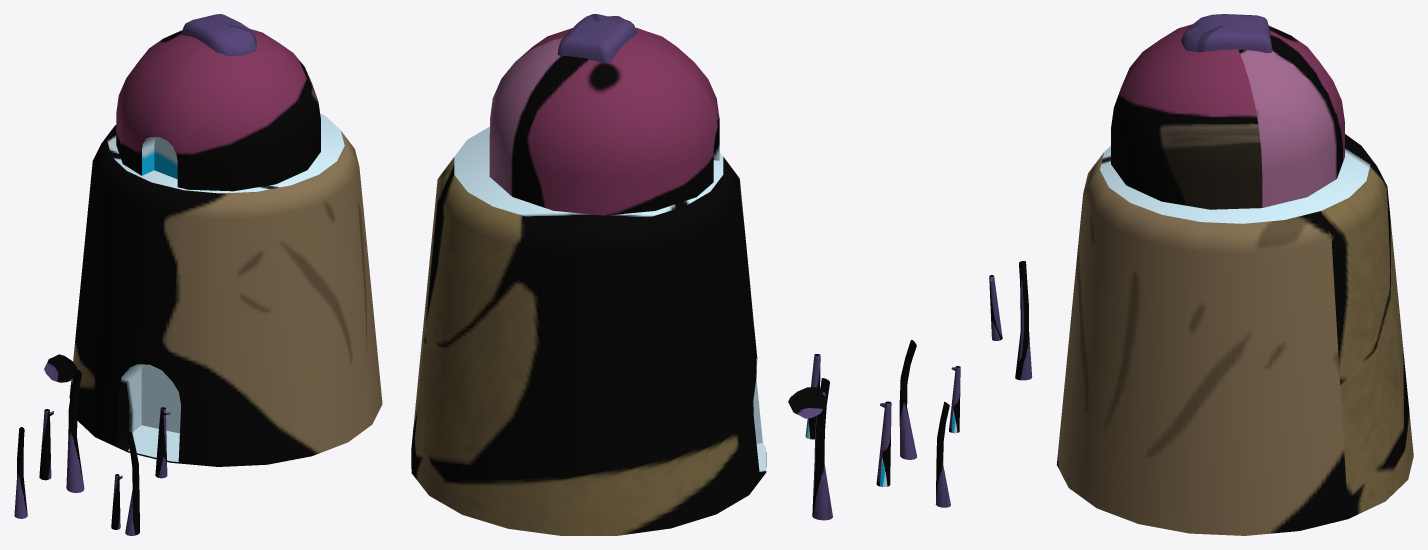
The model's file is Castillo_6.fbx.
The picture shows the model from 3 angles, left to right: view 1: azimuth 30°, elevation 25°; view 2: azimuth 150°, elevation 25°; view 3: azimuth 270°, elevation 25°; orthographic projection. The views are drawn at different scales.
Parts seen in each view (by area): view 1: pSphere11; view 2: pSphere11; view 3: pSphere11.
Boxes of the visible parts, x1,y1,x2,y2 form: pSphere11: (14, 14, 382, 535); pSphere11: (411, 14, 960, 535); pSphere11: (989, 14, 1413, 535).
Size of the model in its own units: 161 by 157 by 130.
